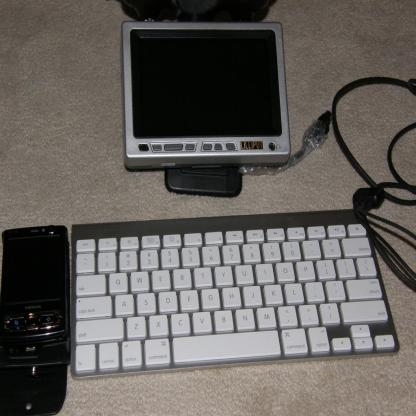board: (121, 17, 292, 170)
